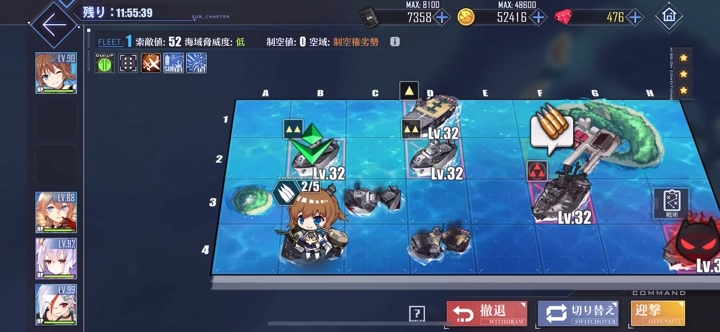lv3: (527, 162, 597, 222)
